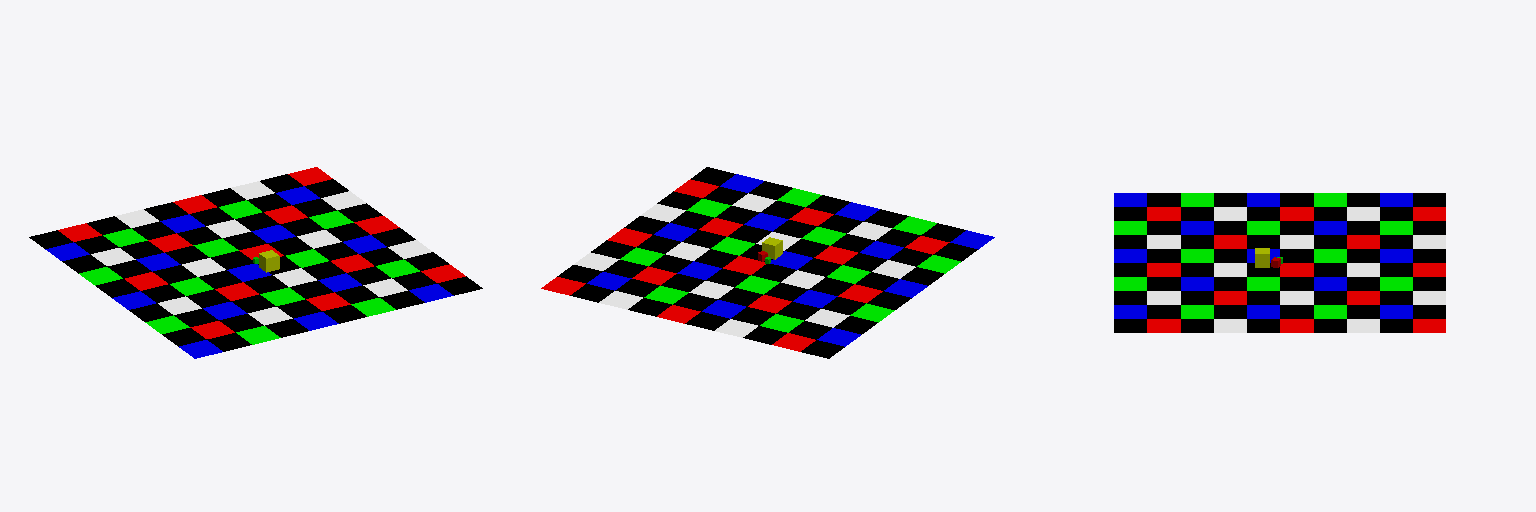
The picture shows the model from 3 angles: view 1: azimuth 30°, elevation 25°; view 2: azimuth 150°, elevation 25°; view 3: azimuth 270°, elevation 25°; orthographic projection.
Parts seen in each view (by area): view 1: Plane_Plane_Checkerboard; view 2: Plane_Plane_Checkerboard; view 3: Plane_Plane_Checkerboard.
Part boxes in pixels (left/top/right/bottom): Plane_Plane_Checkerboard: left=29, top=167, right=482, bottom=358; Plane_Plane_Checkerboard: left=541, top=167, right=994, bottom=358; Plane_Plane_Checkerboard: left=1114, top=193, right=1445, bottom=332.
Bounding box in the file's own units: 26.14 × 1.2 × 26.14.
4 materials, 1 textured.